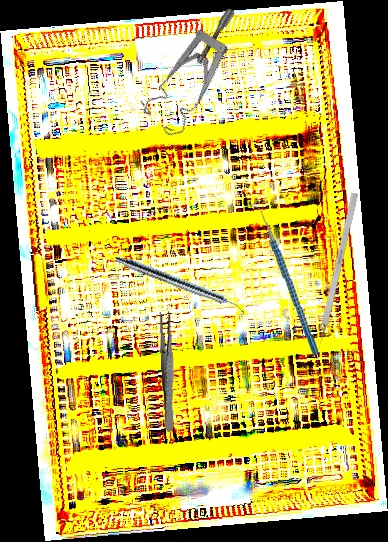Chopper: (248, 200, 319, 358)
Dressing Forceps: (158, 311, 178, 432)
Handpiece: (113, 253, 248, 316)
Hook Surgical: (314, 192, 359, 355)
Speculum: (121, 5, 275, 144)
